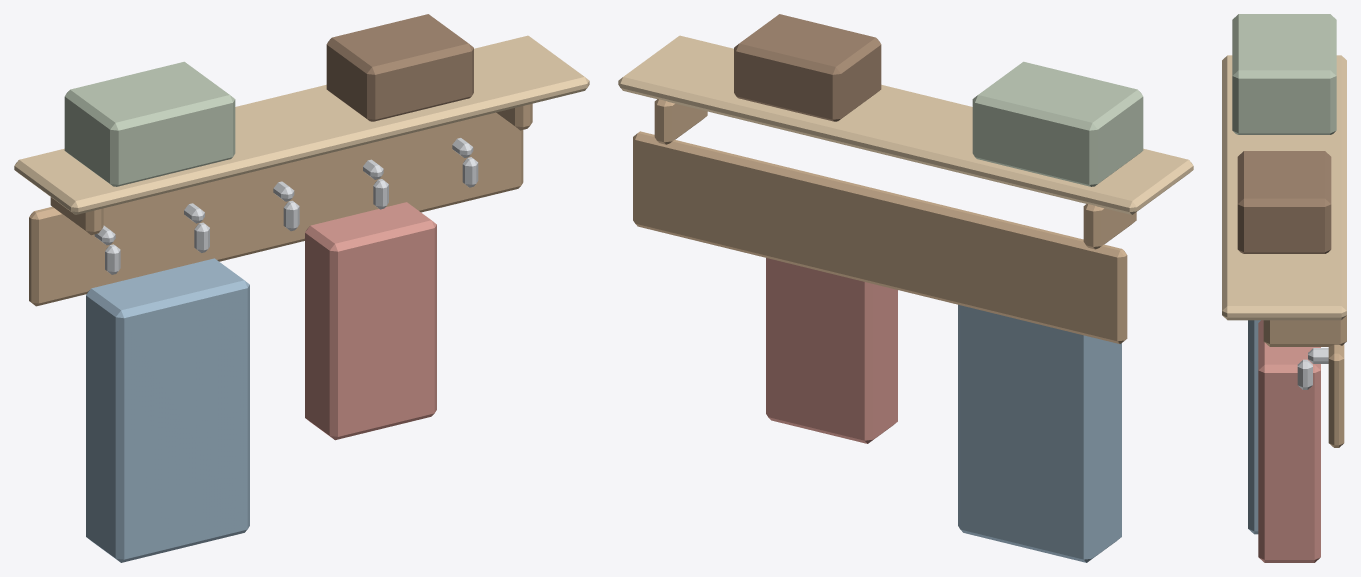
Rendered from WallHookRail.glb.
The picture shows the model from 3 angles, left to right: view 1: azimuth 30°, elevation 25°; view 2: azimuth 150°, elevation 25°; view 3: azimuth 270°, elevation 25°; orthographic projection.
Visible parts, largest first — view 1: WallHookRail_Body; view 2: WallHookRail_Body; view 3: WallHookRail_Body.
Part boxes in pixels (x1,y1,x2,y2): WallHookRail_Body: (14,14,589,562); WallHookRail_Body: (618,14,1193,562); WallHookRail_Body: (1222,14,1346,562).
Size of the model in its own units: 1.16 by 0.96 by 0.24.
